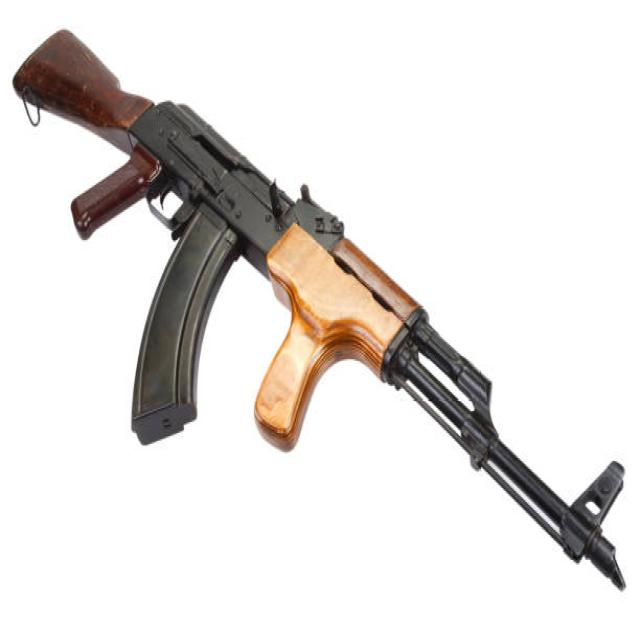rifle: (13, 20, 635, 599)
